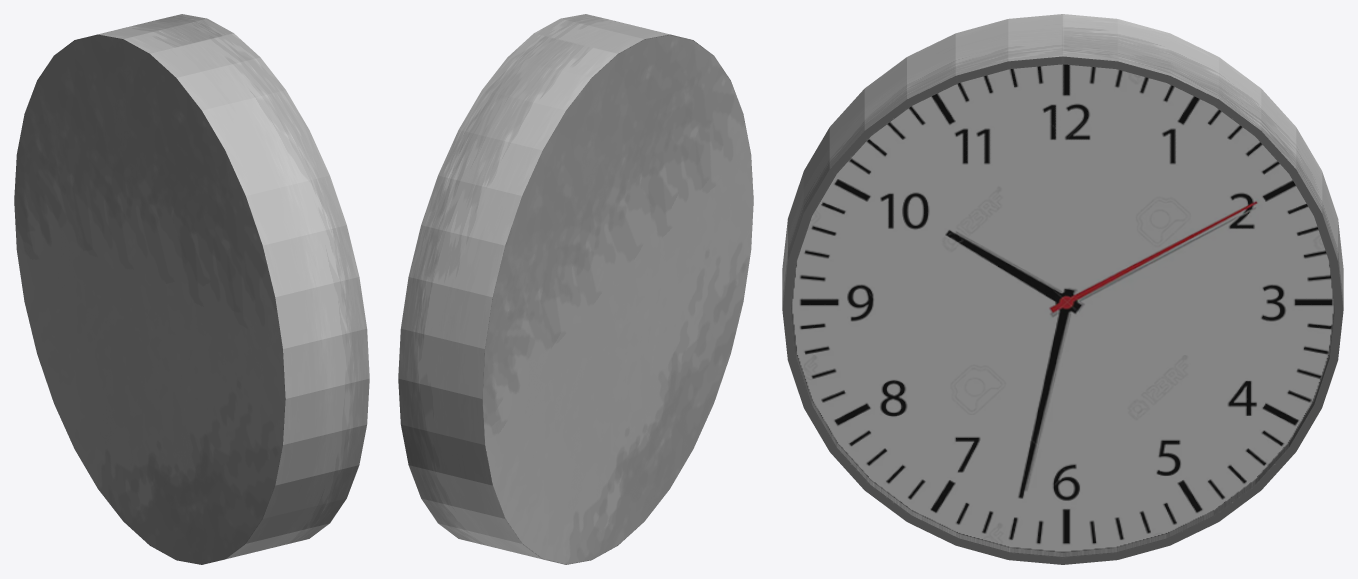
File: Clock.fbx
3 views of the same model, side by side, from view 1: azimuth 30°, elevation 25°; view 2: azimuth 150°, elevation 25°; view 3: azimuth 270°, elevation 25° (orthographic). The views are drawn at different scales.
Visible parts, largest first — view 1: Cylinder; view 2: Cylinder; view 3: Cylinder.
Part boxes in pixels (x1,y1,x2,y2): Cylinder: [14, 14, 369, 564]; Cylinder: [398, 14, 753, 564]; Cylinder: [782, 14, 1343, 564].
Size of the model in its own units: 35.83 by 200 by 200.
